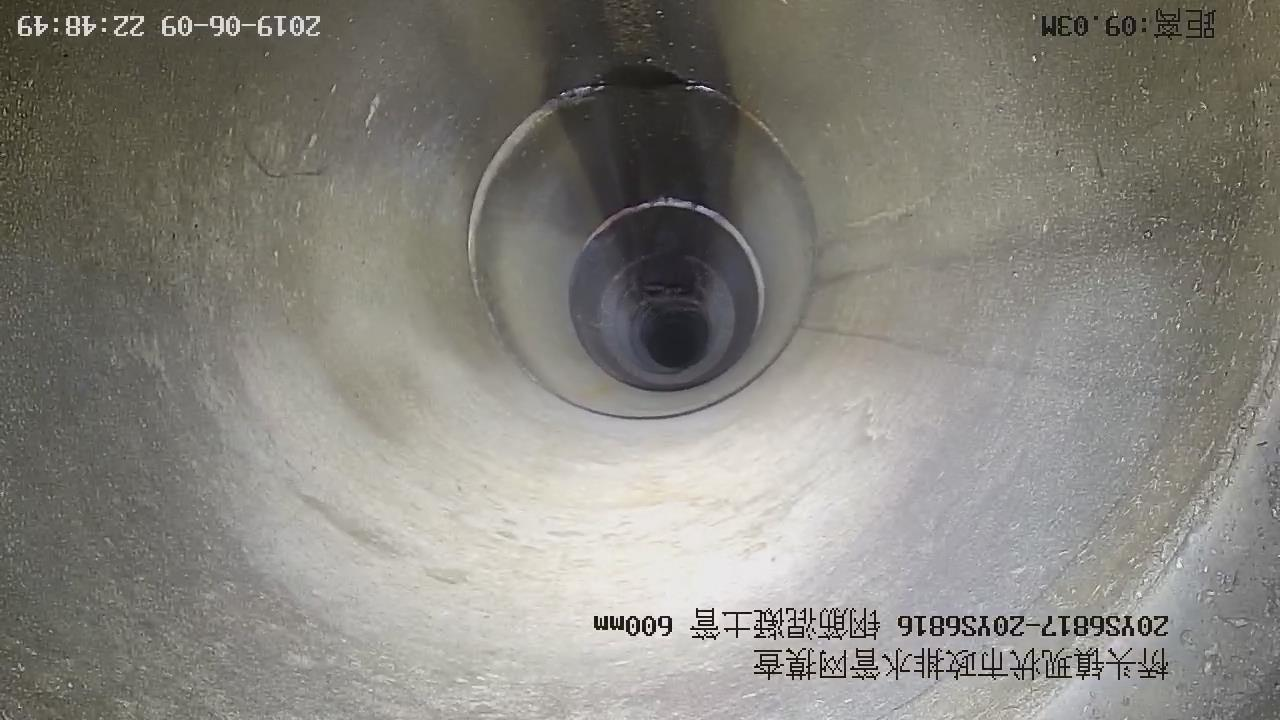CKTJ: (467, 82, 624, 326), (583, 197, 765, 326)
